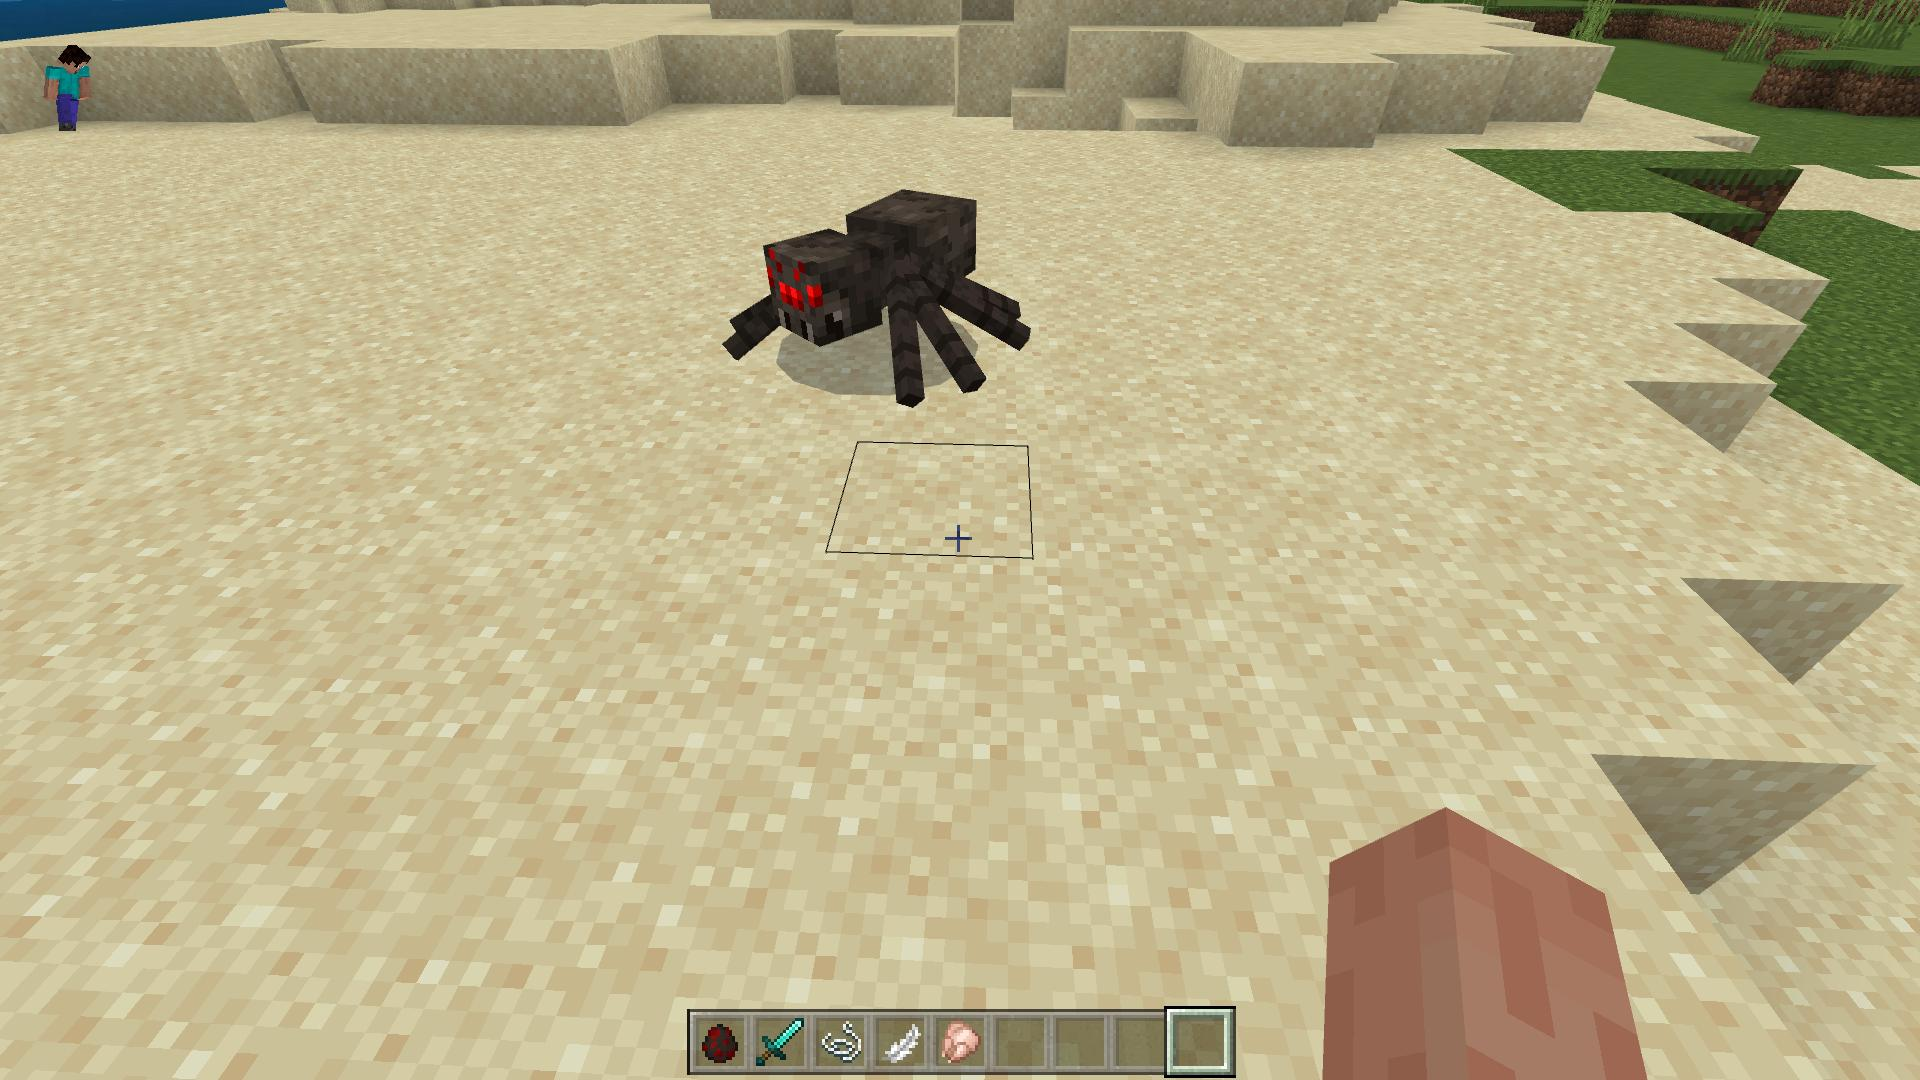spider: (716, 187, 1034, 409)
